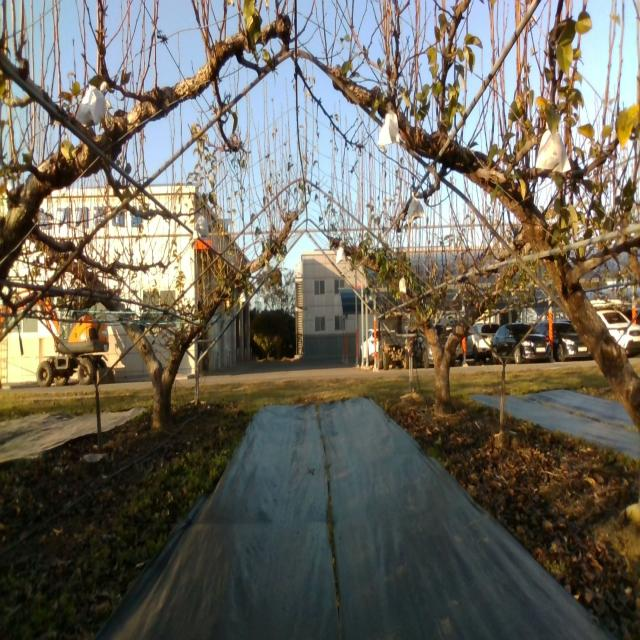pearbags: (534, 126, 572, 175), (76, 81, 108, 126), (377, 108, 400, 147), (406, 191, 425, 224), (192, 215, 210, 240), (336, 247, 346, 265)
